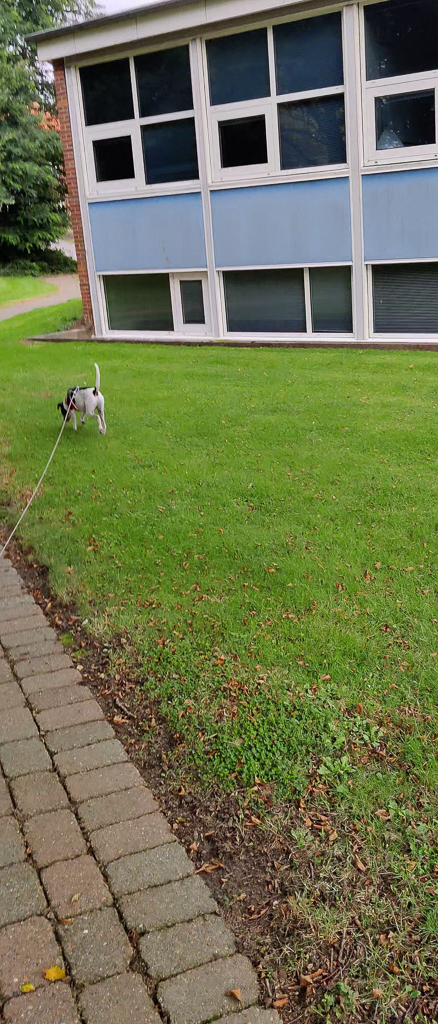Dog: (50, 355, 112, 442)
